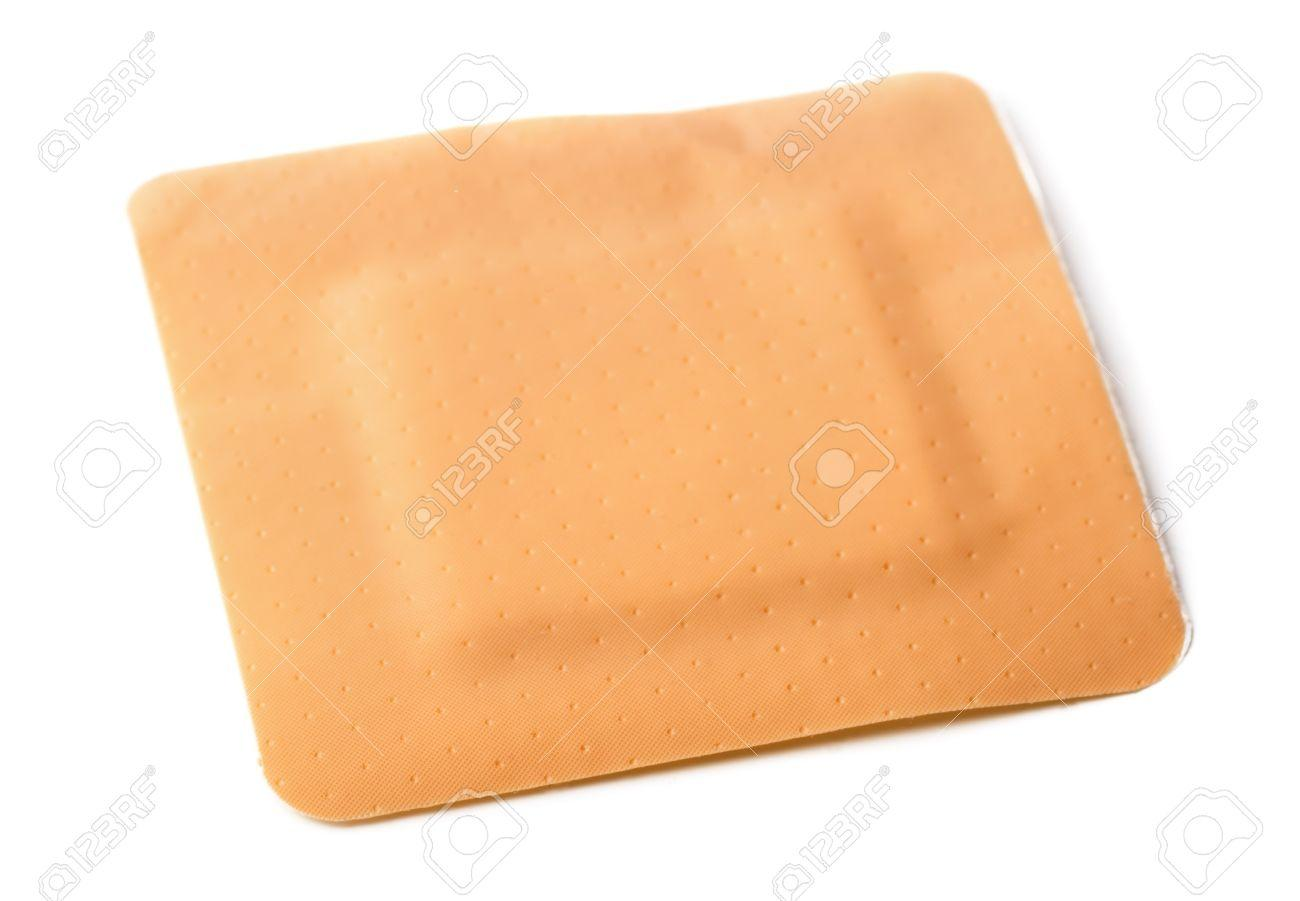bandage: (134, 72, 1189, 831)
